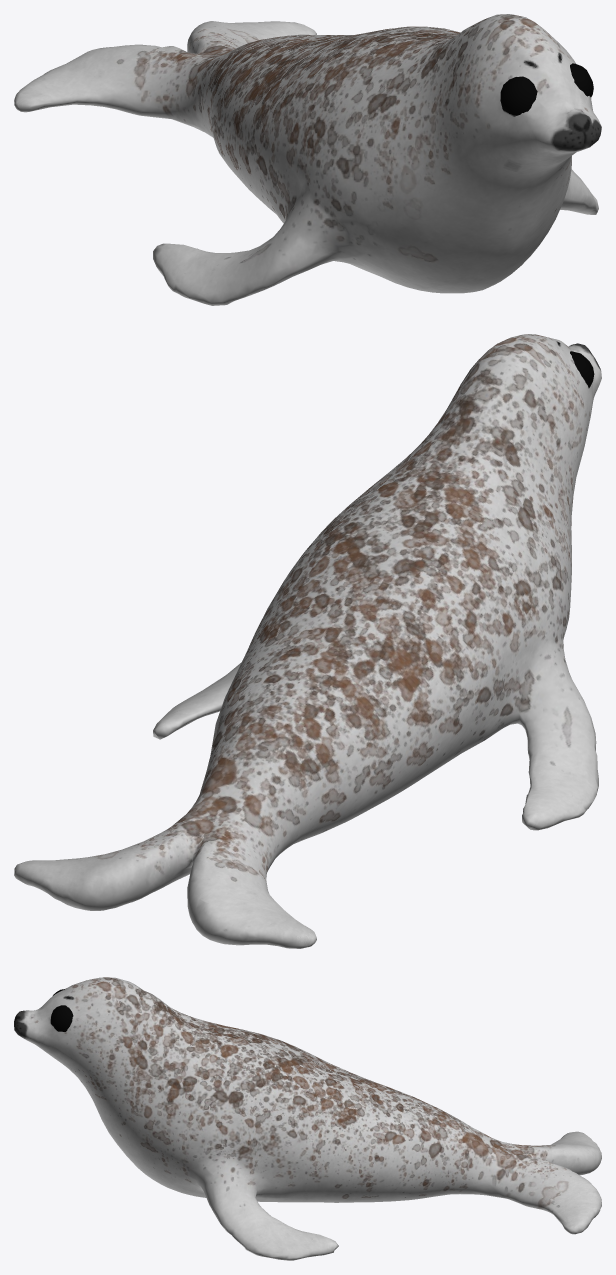
File: seal.glb
3 renders of one model, top to bottom at view 1: azimuth 30°, elevation 25°; view 2: azimuth 150°, elevation 25°; view 3: azimuth 270°, elevation 25°, orthographic. The views are drawn at different scales.
Parts seen in each view (by area): view 1: SealMesh_1, SealMesh_2; view 2: SealMesh_1; view 3: SealMesh_1, SealMesh_2.
Part boxes in pixels (<box>): SealMesh_1: <box>14,14,601,305</box>; SealMesh_2: <box>500,63,593,116</box>; SealMesh_1: <box>14,334,601,948</box>; SealMesh_1: <box>14,977,601,1260</box>; SealMesh_2: <box>50,989,73,1031</box>.
Bounding box in the file's own units: 1.08 × 0.8104 × 2.
Materials: 2 (2 with a texture image).
